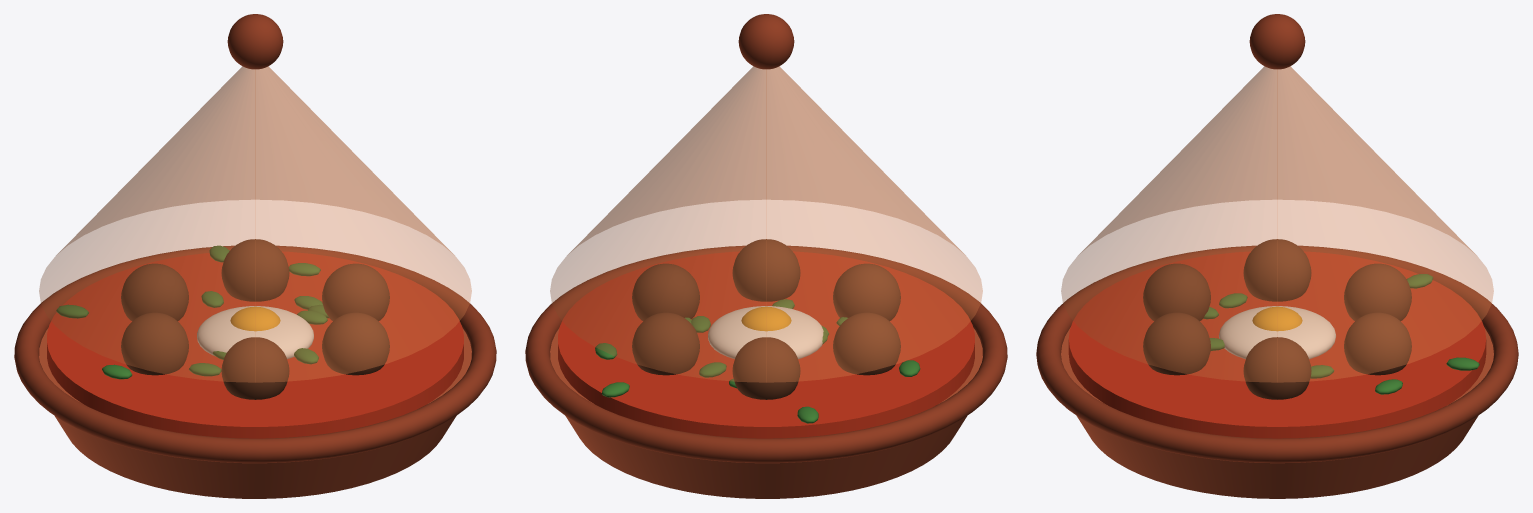
Rendered from caiat-tajine.glb.
3 views of the same model, side by side, from view 1: azimuth 30°, elevation 25°; view 2: azimuth 150°, elevation 25°; view 3: azimuth 270°, elevation 25° (orthographic).
Bounding box in the file's own units: 0.312 × 0.286 × 0.312.
